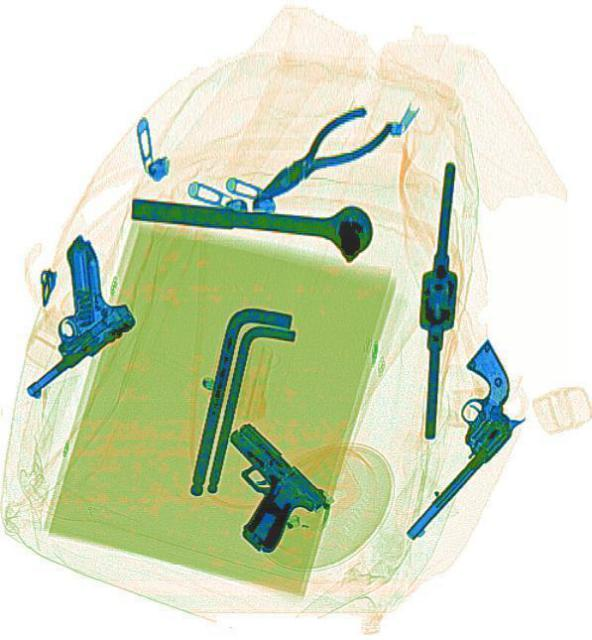Gun: (351, 337, 548, 545), (182, 416, 328, 560), (0, 234, 140, 374)
Pliers: (242, 91, 394, 220)
